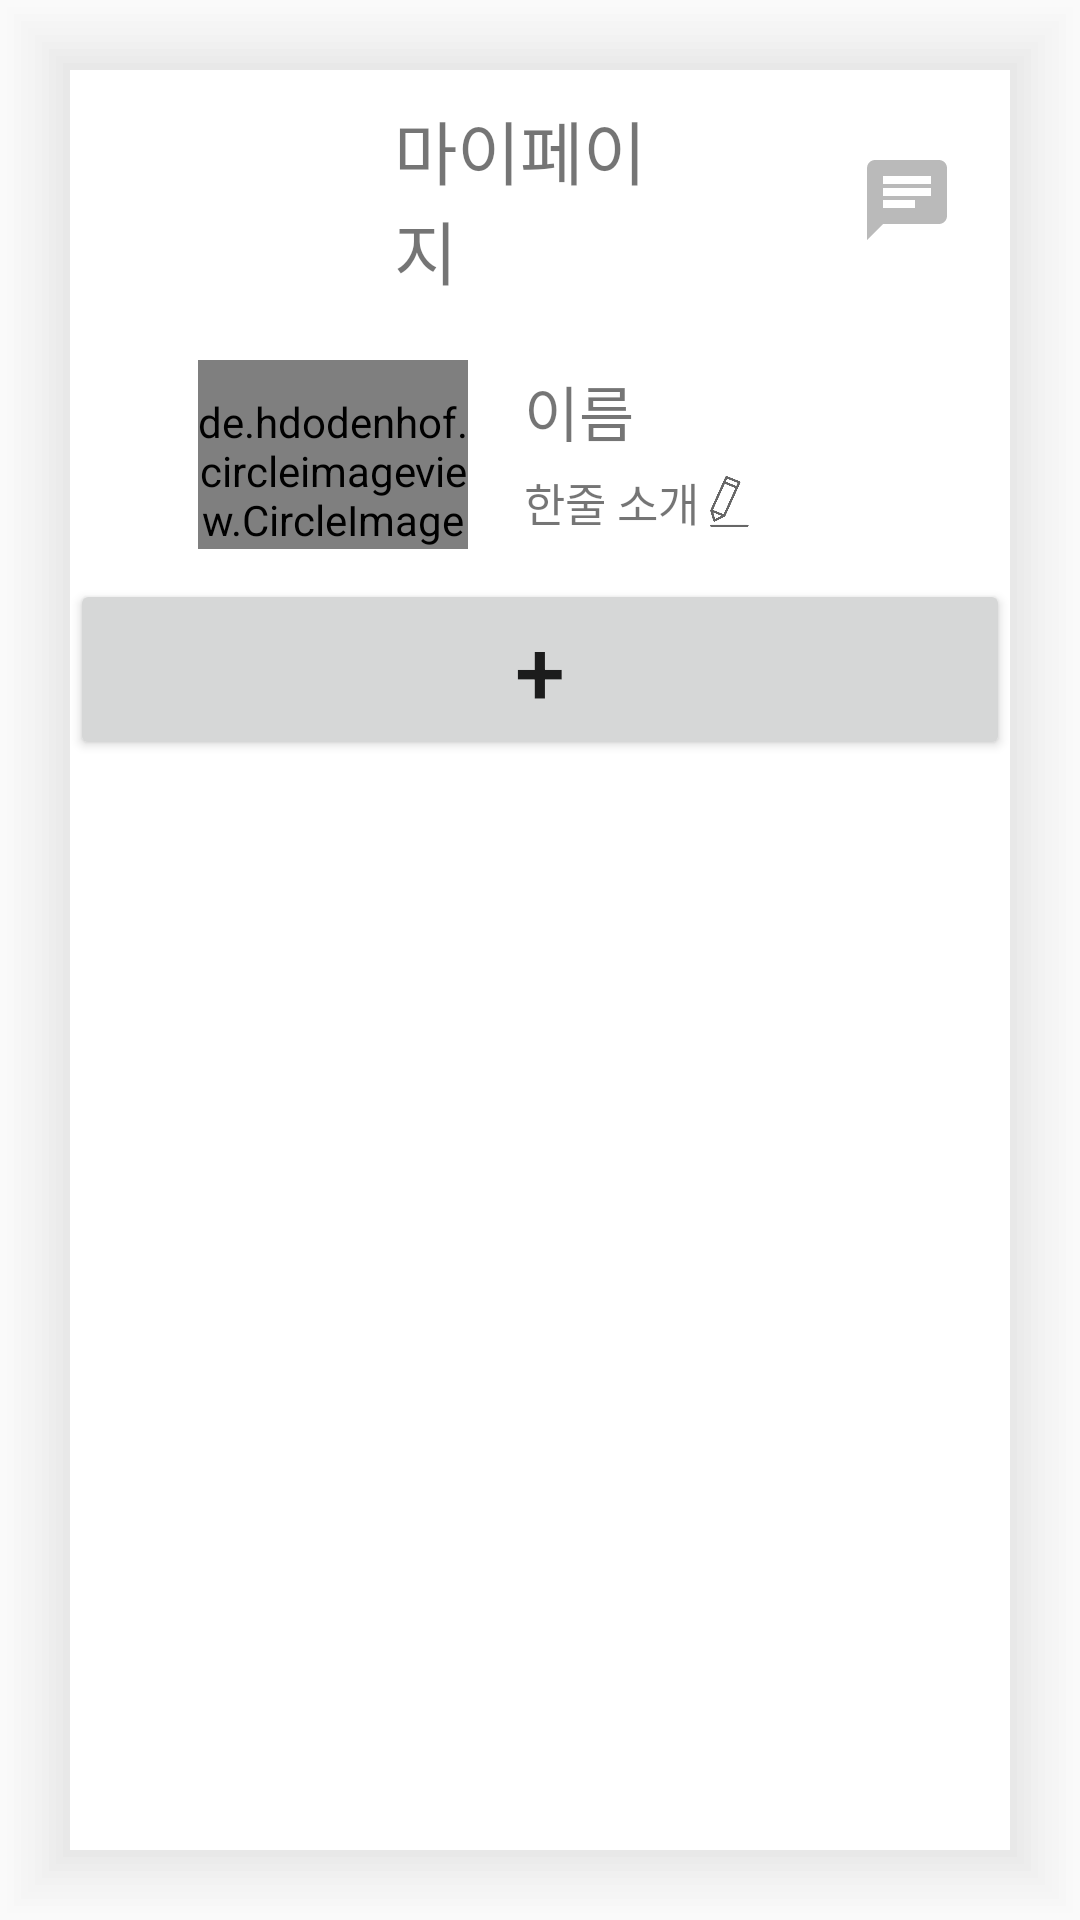

Icon click points for this 1080px x 1920px phone screenshot, format (x,y):
chat: (907,200)
pencil: (729,501)
